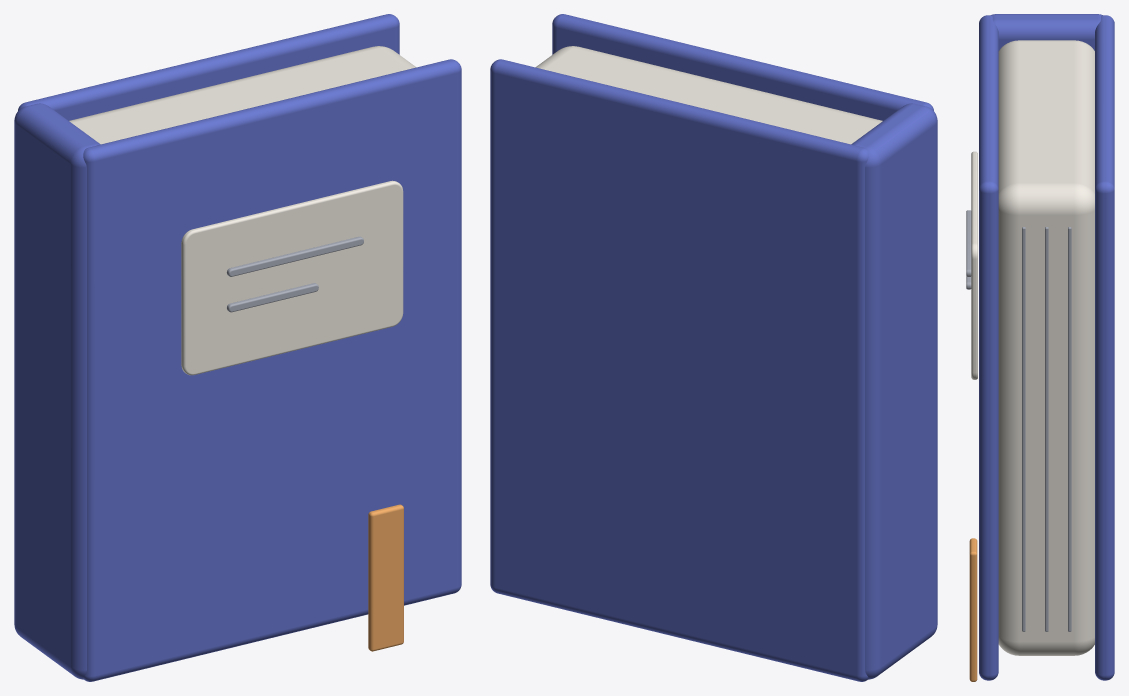
File: notebook.glb
The picture shows the model from 3 angles, left to right: view 1: azimuth 30°, elevation 25°; view 2: azimuth 150°, elevation 25°; view 3: azimuth 270°, elevation 25°; orthographic projection. The views are drawn at different scales.
Parts seen in each view (by area): view 1: notebook; view 2: notebook; view 3: notebook.
Part boxes in pixels (left/top/right/bottom): notebook: left=14, top=14, right=461, bottom=681; notebook: left=490, top=14, right=937, bottom=681; notebook: left=966, top=14, right=1114, bottom=681.
Bounding box in the file's own units: 1.37 × 1.9 × 0.4865.
